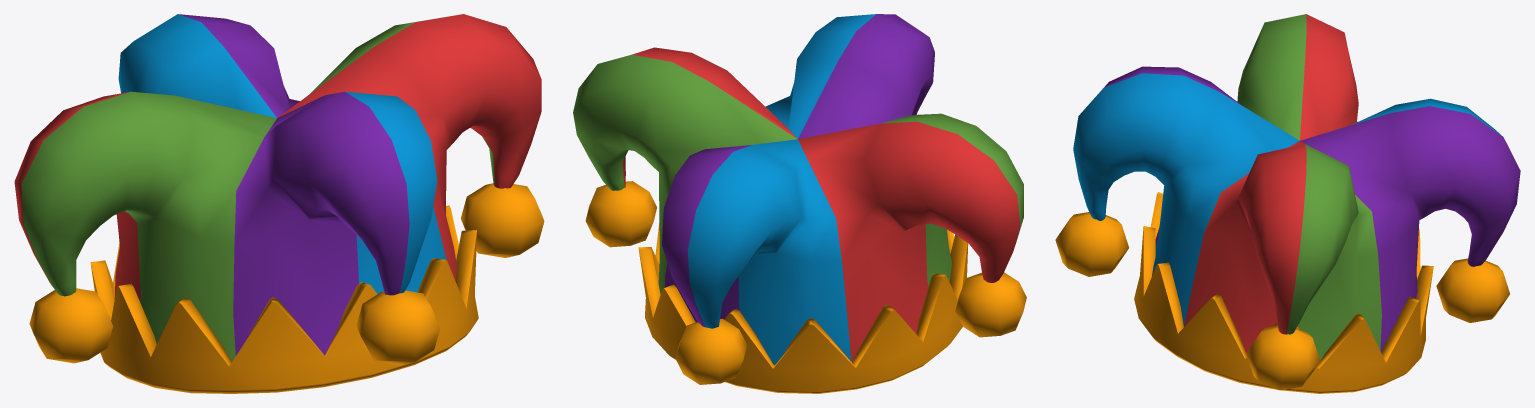
File: Hat_59.glb
The picture shows the model from 3 angles, left to right: view 1: azimuth 30°, elevation 25°; view 2: azimuth 150°, elevation 25°; view 3: azimuth 270°, elevation 25°; orthographic projection. The views are drawn at different scales.
Visible parts, largest first — view 1: Hat_59; view 2: Hat_59; view 3: Hat_59.
Boxes of the visible parts, left/top/right/bottom form: Hat_59: left=14, top=14, right=544, bottom=393; Hat_59: left=573, top=14, right=1026, bottom=393; Hat_59: left=1055, top=14, right=1520, bottom=393.
Size of the model in its own units: 1 by 0.588 by 0.9176.
Materials: 1 (1 with a texture image).
